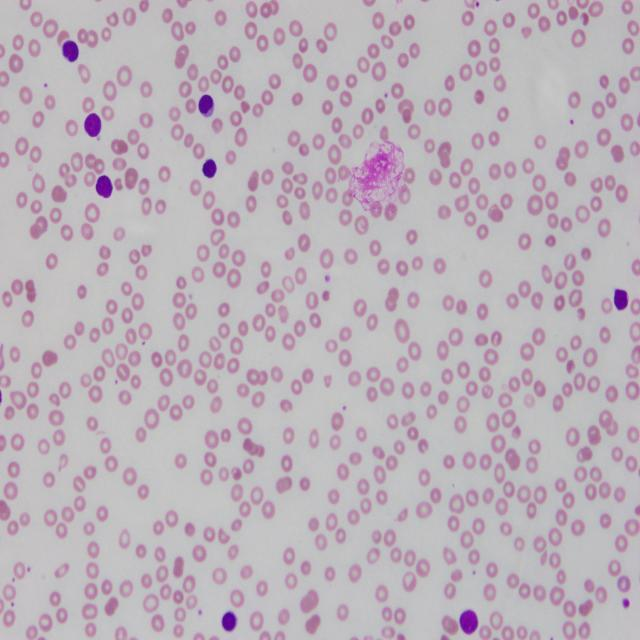cell: (460, 610, 478, 634), (84, 113, 101, 137), (62, 40, 79, 62), (96, 175, 112, 198), (199, 95, 214, 117), (614, 290, 629, 310), (221, 612, 236, 632), (202, 158, 216, 178)
